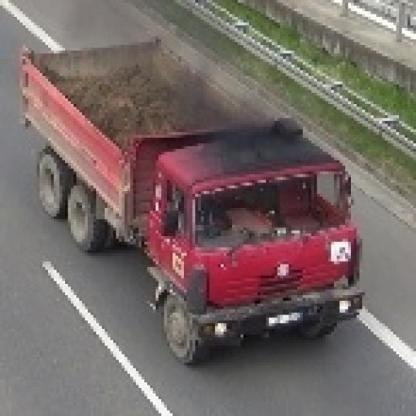truck: (18, 40, 363, 367)
